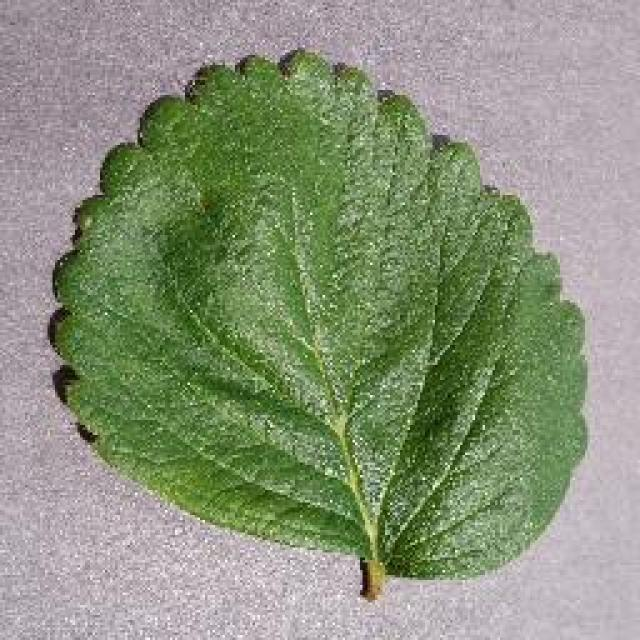Strawberry___healthy: (40, 30, 602, 615)
